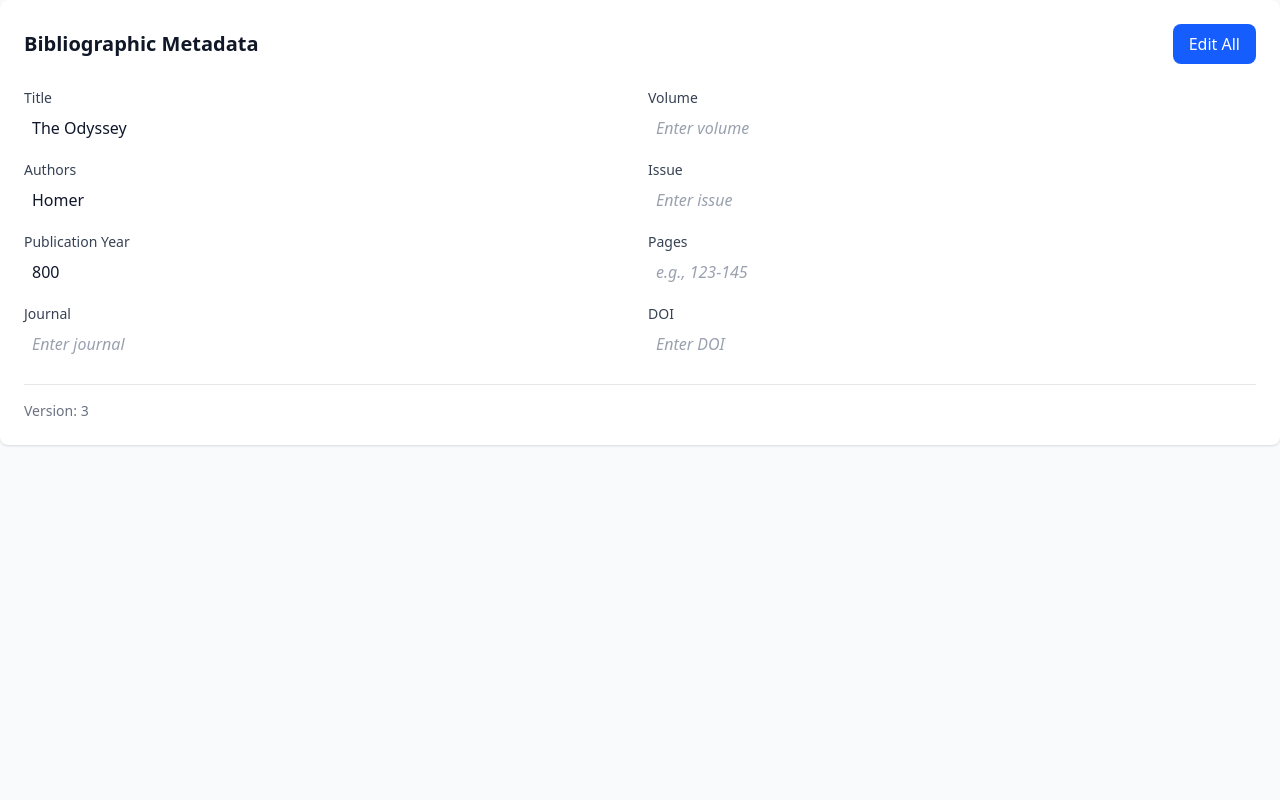
MetadataPanel › saves edited metadata through the modal and closes it
Click the button "Edit All".
click(1214, 44)  # box [1173,24,1256,64]
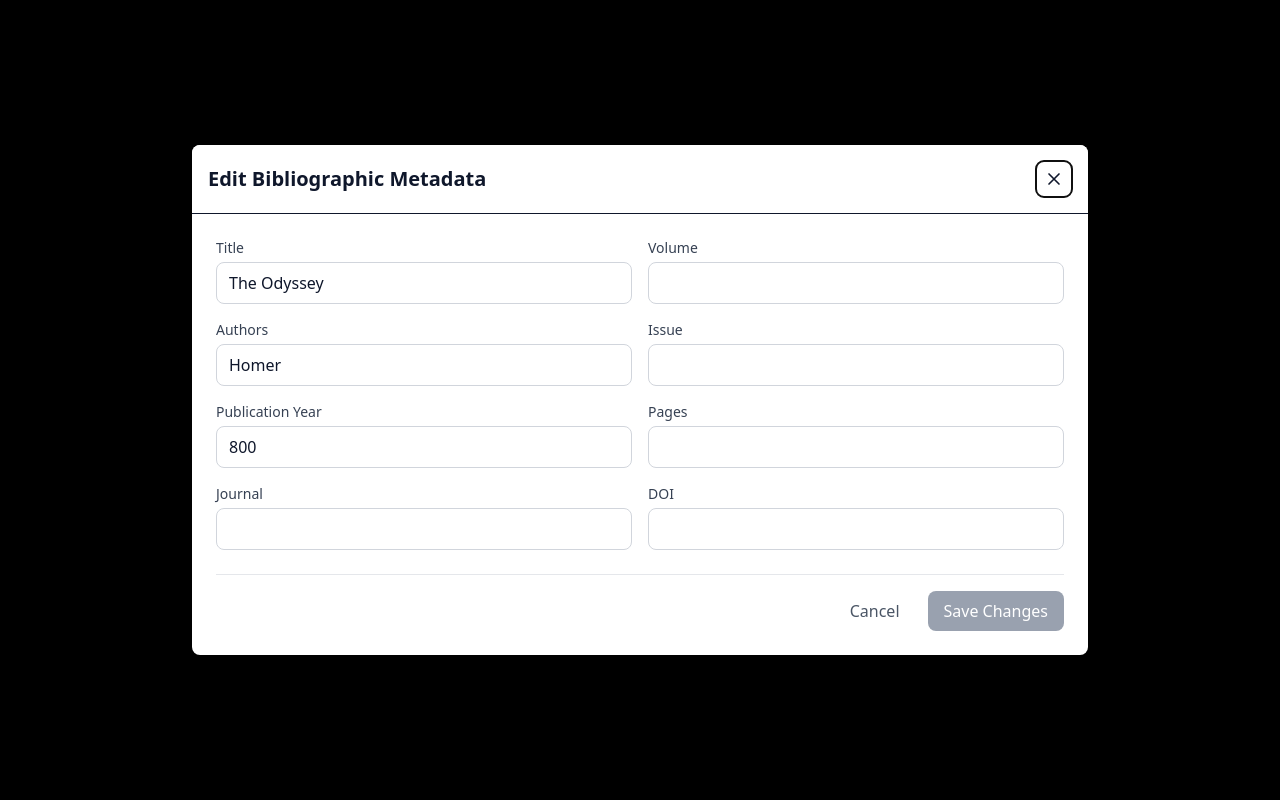
Result: the heading "Edit Bibliographic Metadata" is shown at [208,165,486,193]
Result: the 1st field is shown
Replace the text in the 1st field with "The Iliad" at (424, 283), box [216,262,632,304]
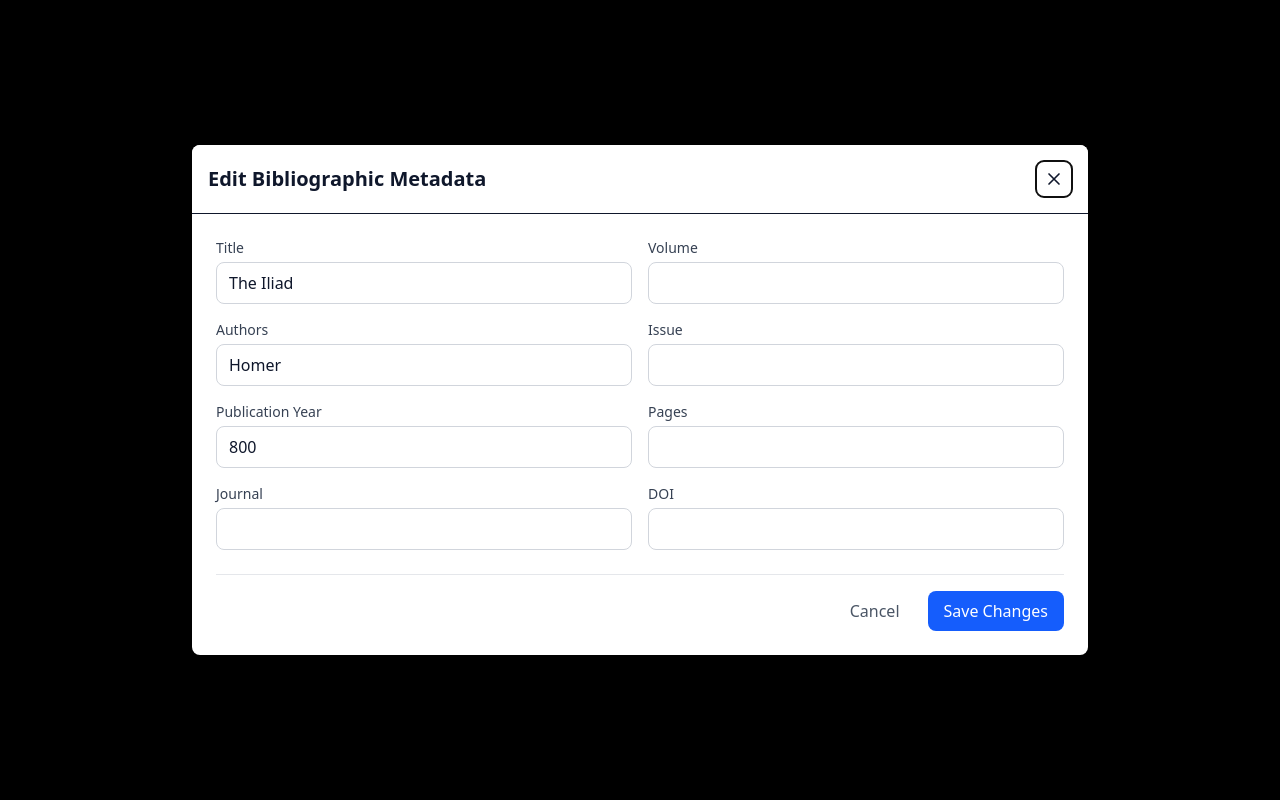
Click the button "Save Changes".
click(996, 611)  # box [928,591,1064,631]
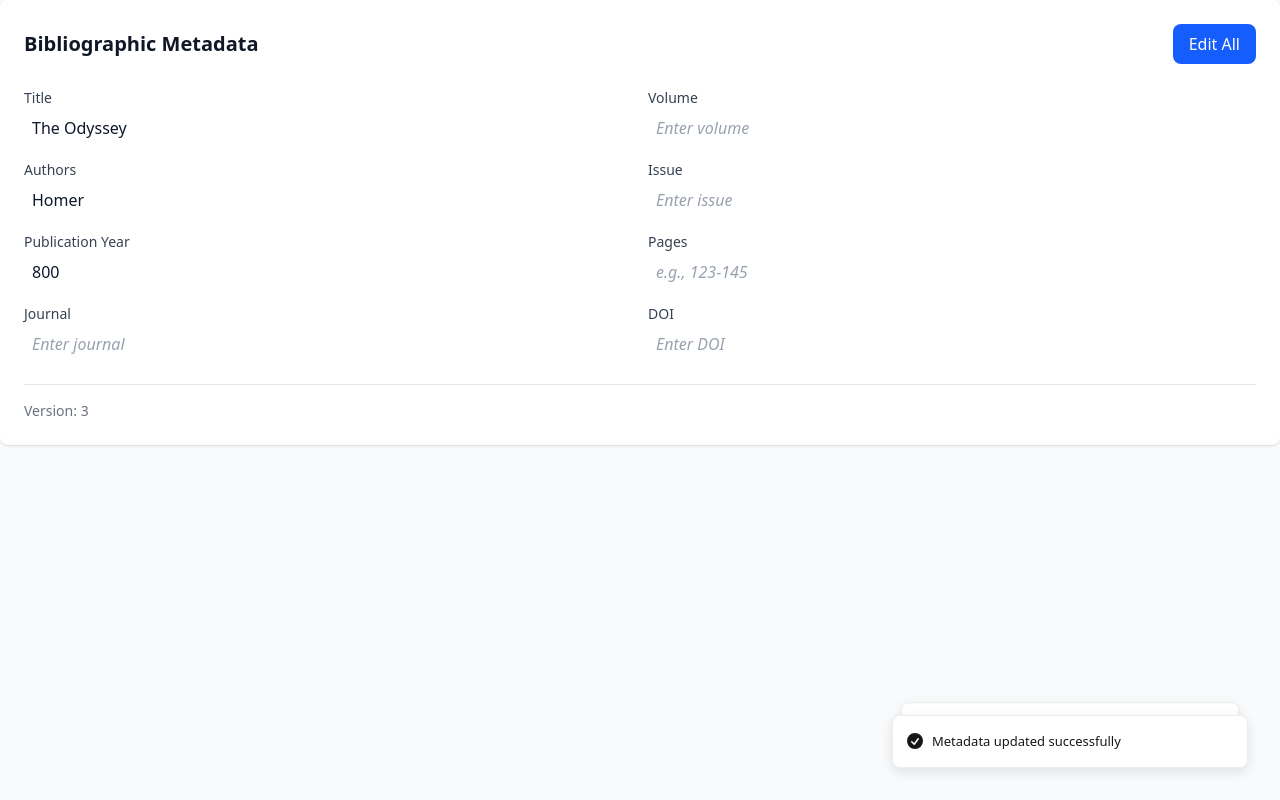
Result: the heading "Edit Bibliographic Metadata" is gone
